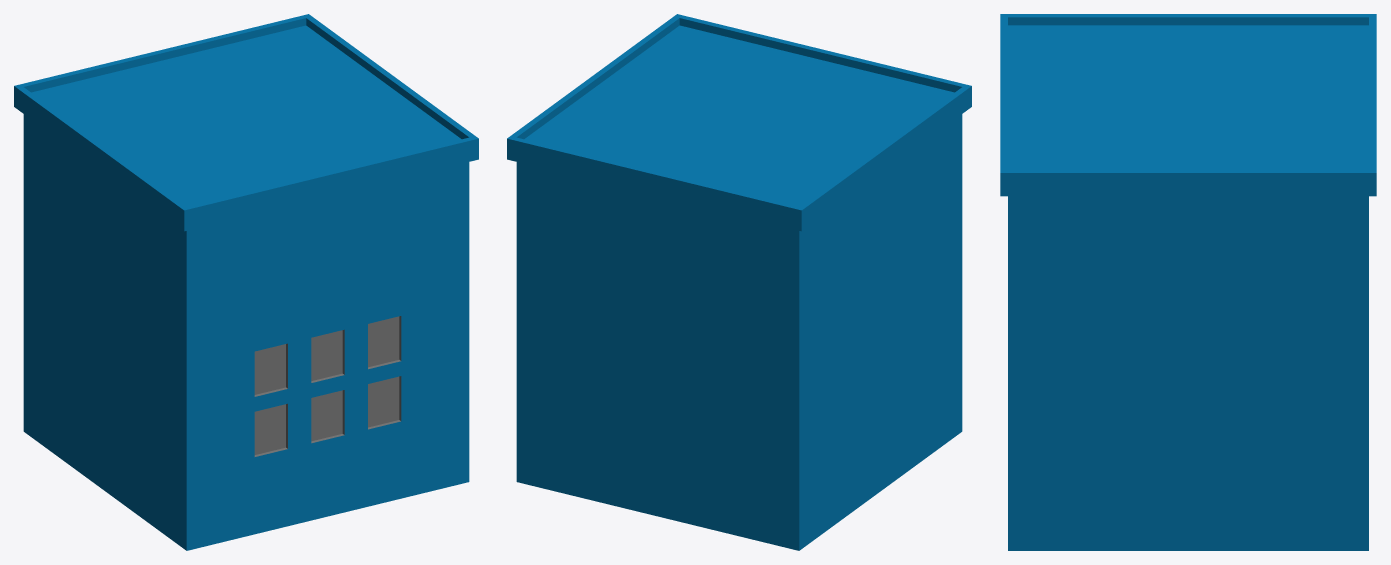
3 views of the same model, side by side, from view 1: azimuth 30°, elevation 25°; view 2: azimuth 150°, elevation 25°; view 3: azimuth 270°, elevation 25° (orthographic). The views are drawn at different scales.
Visible parts, largest first — view 1: pCube4; view 2: pCube4; view 3: pCube4.
Part boxes in pixels (left/top/right/bottom): pCube4: left=14, top=14, right=478, bottom=550; pCube4: left=507, top=14, right=971, bottom=550; pCube4: left=1000, top=14, right=1376, bottom=550.
Size of the model in its own units: 1043 by 1165 by 1043.
